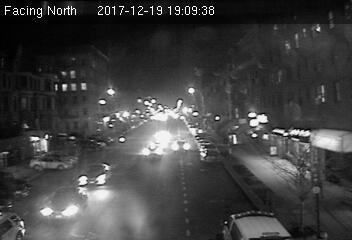car: (39, 183, 88, 223), (76, 162, 113, 187), (143, 143, 163, 158), (171, 138, 189, 154)
police: (218, 210, 295, 240)
